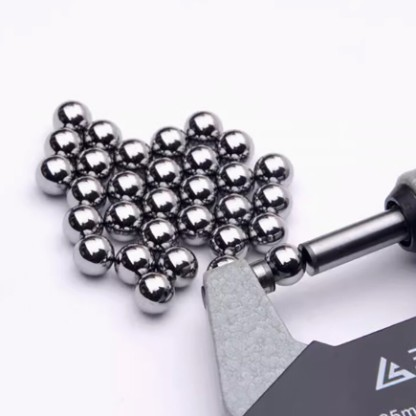ironball: (72, 233, 114, 276), (133, 271, 174, 314), (264, 242, 305, 285), (113, 242, 154, 284), (156, 245, 197, 287), (62, 204, 103, 244), (34, 154, 74, 195), (103, 199, 142, 241), (175, 204, 214, 245), (247, 211, 285, 251), (65, 175, 106, 209), (253, 152, 293, 186), (208, 223, 248, 257), (213, 192, 253, 225), (216, 128, 253, 162), (140, 217, 177, 251), (216, 160, 253, 194), (106, 170, 144, 203), (52, 99, 91, 131), (251, 182, 290, 214), (113, 137, 150, 170), (75, 146, 112, 179), (179, 173, 216, 206), (142, 186, 179, 219), (184, 110, 222, 142), (182, 143, 219, 175), (145, 156, 182, 188), (83, 119, 121, 150), (43, 127, 82, 157), (150, 125, 186, 157), (206, 253, 238, 271)
